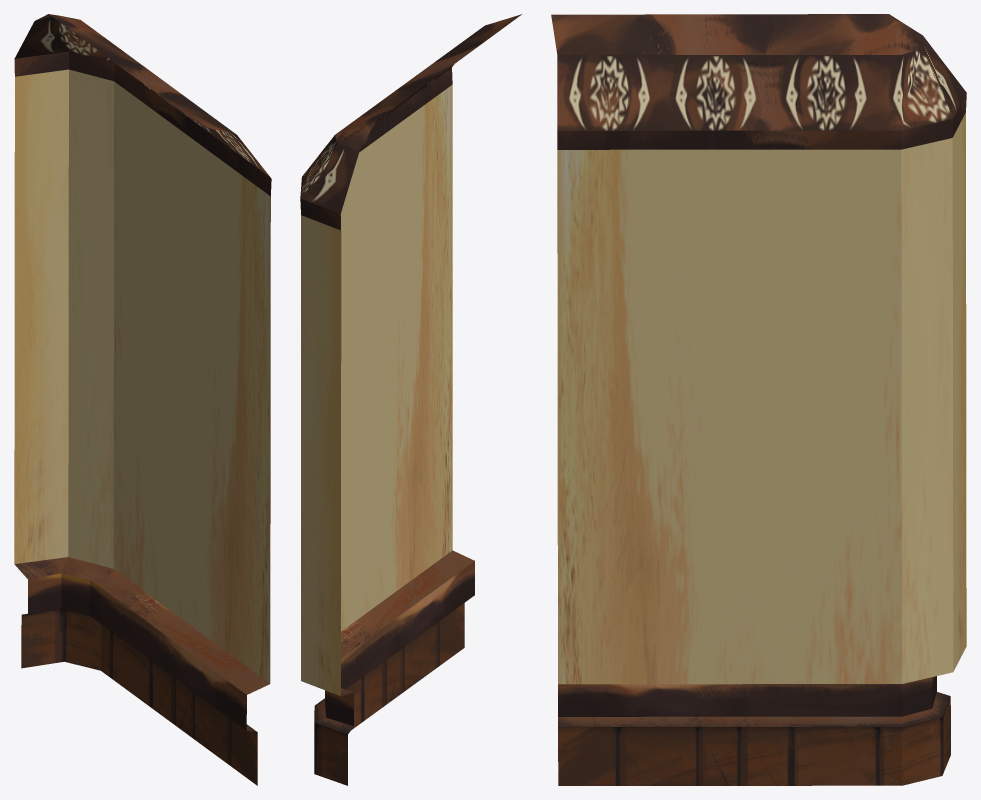
The model's file is стіна бок .fbx.
3 views of the same model, side by side, from view 1: azimuth 30°, elevation 25°; view 2: azimuth 150°, elevation 25°; view 3: azimuth 270°, elevation 25° (orthographic). The views are drawn at different scales.
Visible parts, largest first — view 1: трім.009; view 2: трім.009; view 3: трім.009.
Part boxes in pixels (bbox=[...]): трім.009: bbox=[14, 14, 271, 785]; трім.009: bbox=[300, 14, 521, 785]; трім.009: bbox=[551, 14, 966, 785].
Bounding box in the file's own units: 30.92 × 277 × 141.
